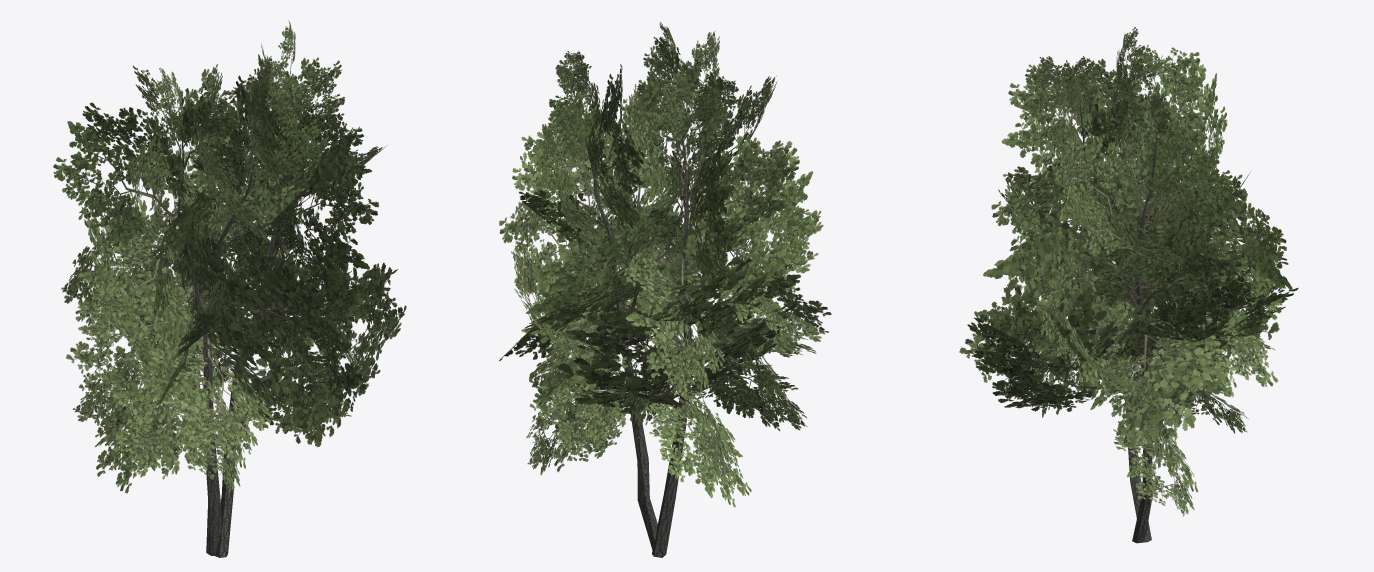
Rendered from Tree6.gltf.
The picture shows the model from 3 angles, left to right: view 1: azimuth 30°, elevation 25°; view 2: azimuth 150°, elevation 25°; view 3: azimuth 270°, elevation 25°; orthographic projection. The views are drawn at different scales.
Parts seen in each view (by area): view 1: Tree-02-2_5; view 2: Tree-02-2_5; view 3: Tree-02-2_5.
Part boxes in pixels (x1=…): Tree-02-2_5: x1=53, y1=20, x2=406, y2=557; Tree-02-2_5: x1=499, y1=22, x2=831, y2=557; Tree-02-2_5: x1=959, y1=26, x2=1298, y2=543.
Bounding box in the file's own units: 173 × 241 × 199.
6 materials, 6 textured.
